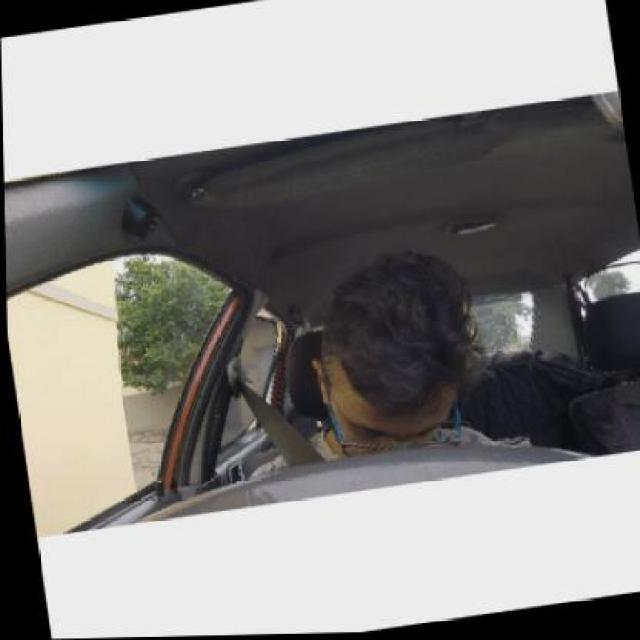drowsy: (301, 258, 465, 458)
